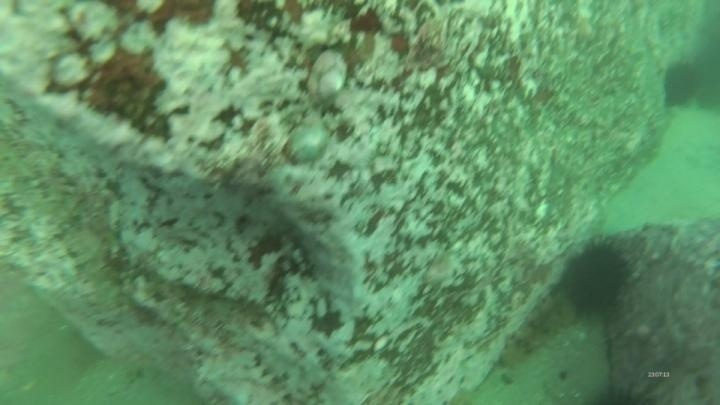echinus: (557, 235, 635, 321), (659, 59, 704, 111)
holothurian: (497, 293, 579, 370), (626, 107, 667, 171)
